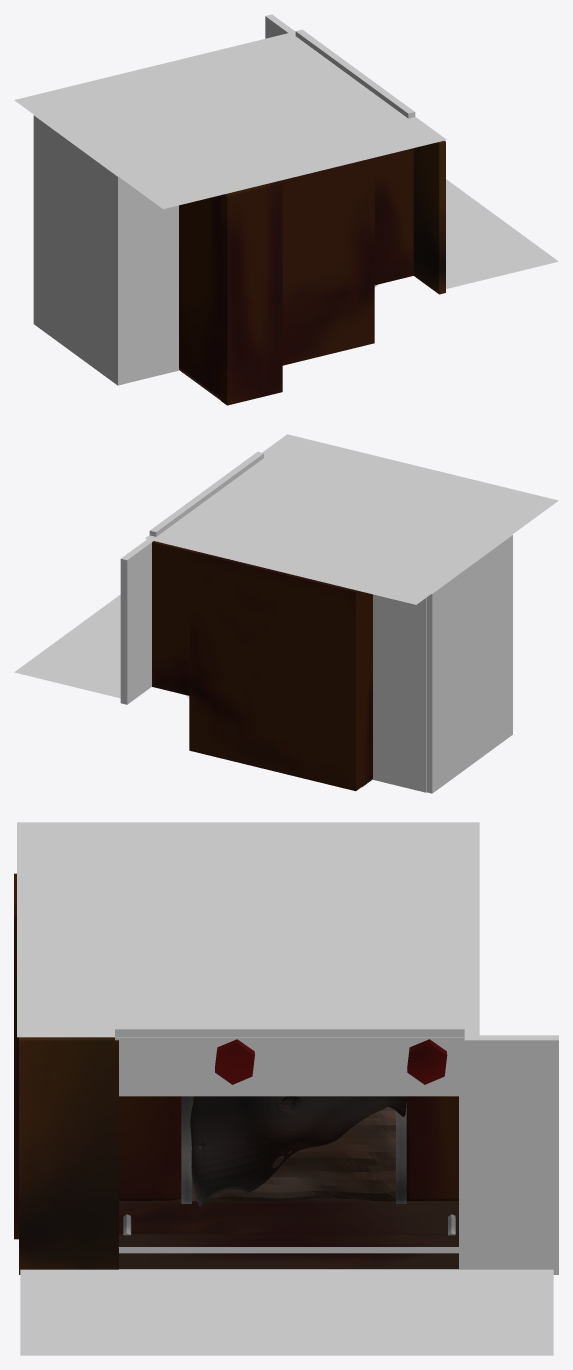
Rendered from Salle de la porte final final.fbx.
3 renders of one model, top to bottom at view 1: azimuth 30°, elevation 25°; view 2: azimuth 150°, elevation 25°; view 3: azimuth 270°, elevation 25°, orthographic. The views are drawn at different scales.
Visible parts, largest first — view 1: Plafond, Boîte 12, Plan 14, Plan 9, Boîte 3, Plan 4, Plan 1, Plan 16, Plan 17, Plan 19; view 2: Plafond, Plan 13, Boîte 12, Boîte 1, Plan 1, Plan 15, Plan 7, Plan 4, Plan 19; view 3: Plafond, Plan 1, Plan 7, Plan 17, Plan 19, Porte 1, Plan 4, Plan 6, Plan 3, Porte, Plan 18, Encadrement porte (+4 smaller).
Boxes of the visible parts, x1,y1,x2,y2 form: Plafond: (14, 31, 446, 209); Boîte 12: (33, 115, 124, 385); Plan 14: (280, 157, 374, 365); Plan 9: (220, 181, 282, 405); Boîte 3: (124, 181, 178, 383); Plan 4: (179, 195, 220, 397); Plan 1: (446, 179, 558, 288); Plan 16: (374, 148, 413, 285); Plan 17: (413, 140, 445, 294); Plan 19: (295, 29, 415, 118); Plafond: (145, 434, 558, 604); Plan 13: (189, 550, 361, 791); Boîte 12: (426, 535, 512, 793); Boîte 1: (373, 594, 426, 792); Plan 1: (14, 594, 120, 698); Plan 15: (152, 541, 190, 695); Plan 7: (120, 539, 153, 704); Plan 4: (360, 591, 372, 784); Plan 19: (149, 451, 263, 536); Plafond: (17, 822, 479, 1037); Plan 1: (20, 1269, 553, 1355); Plan 7: (459, 1035, 558, 1274); Plan 17: (19, 1037, 118, 1274); Plan 19: (115, 1024, 464, 1096); Porte 1: (190, 1096, 406, 1206); Plan 4: (119, 1096, 458, 1200); Plan 6: (119, 1198, 458, 1231); Plan 3: (119, 1234, 458, 1269); Porte: (192, 1096, 395, 1201); Plan 18: (118, 1247, 460, 1253); Encadrement porte: (181, 1096, 406, 1203).
Size of the model in its own units: 10.77 by 5.67 by 8.25.
